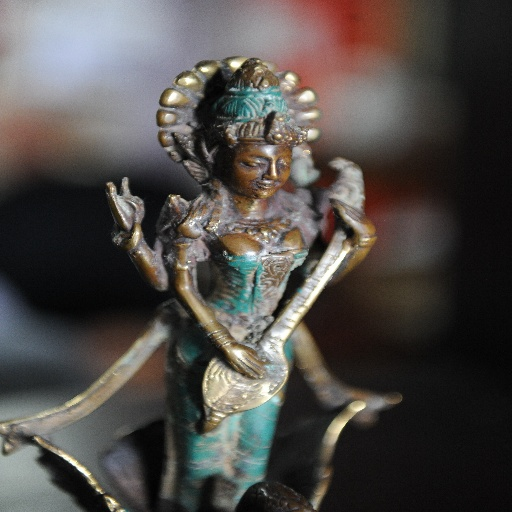hand: (97, 179, 155, 225), (327, 197, 377, 239), (223, 339, 272, 380), (290, 144, 320, 187)
